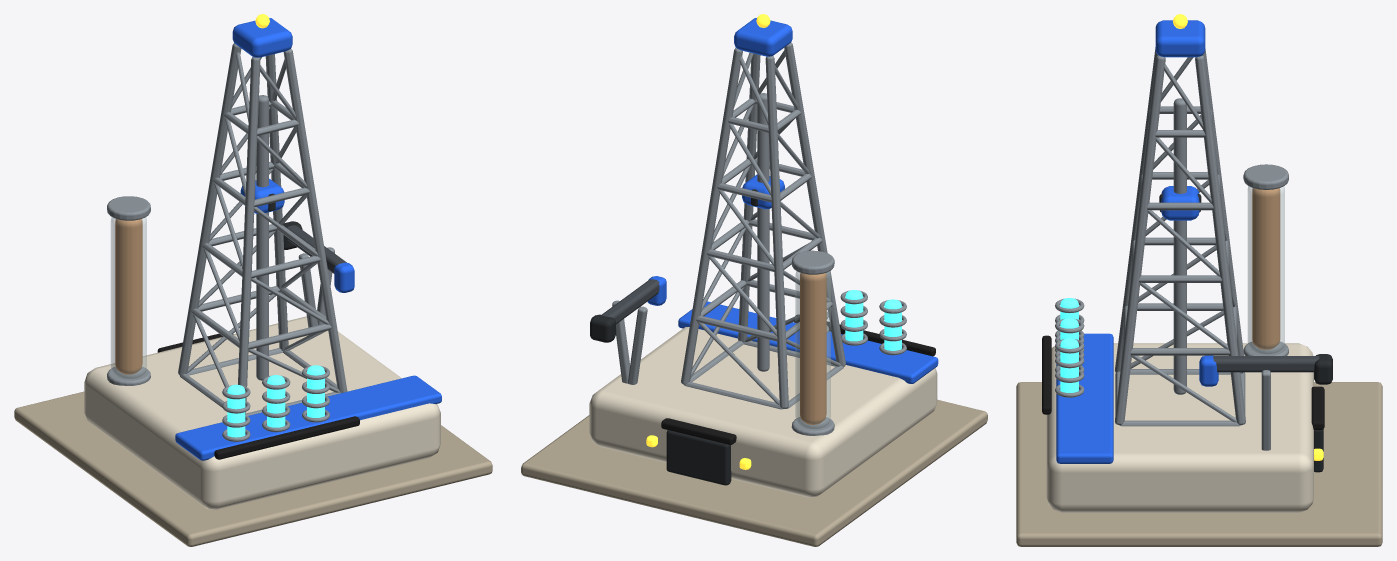
File: deep_mine.glb
The picture shows the model from 3 angles, left to right: view 1: azimuth 30°, elevation 25°; view 2: azimuth 150°, elevation 25°; view 3: azimuth 270°, elevation 25°; orthographic projection. The views are drawn at different scales.
Visible parts, largest first — view 1: stage_1__M_CreamPlastic, stage_2__M_SpringSteel, stage_0__M_SugarPad, stage_1__M_SpringSteel, stage_1__M_Team, stage_2__M_FrostGlass, ore_tube__M_OreTint, stage_3__M_SpringSteel, spinner__M_SpringSteel, stage_1__M_E_Cyan, stage_1__M_Licorice, stage_3__M_Team (+2 smaller); view 2: stage_1__M_CreamPlastic, stage_0__M_SugarPad, stage_2__M_SpringSteel, stage_1__M_SpringSteel, stage_2__M_FrostGlass, ore_tube__M_OreTint, stage_1__M_Team, stage_3__M_SpringSteel, stage_1__M_Dark, spinner__M_SpringSteel, stage_3__M_Team, stage_1__M_Licorice (+3 smaller); view 3: stage_1__M_CreamPlastic, stage_0__M_SugarPad, stage_2__M_SpringSteel, stage_2__M_FrostGlass, stage_1__M_Team, stage_1__M_SpringSteel, ore_tube__M_OreTint, spinner__M_SpringSteel, stage_3__M_SpringSteel, stage_3__M_Team, beam__M_SmokePlastic, stage_1__M_E_Cyan (+4 smaller).
Part boxes in pixels (x1,y1,x2,y2): stage_1__M_CreamPlastic: (84, 316, 440, 509); stage_2__M_SpringSteel: (107, 43, 347, 414); stage_0__M_SugarPad: (14, 391, 492, 546); stage_1__M_SpringSteel: (107, 247, 340, 441); stage_1__M_Team: (175, 375, 441, 460); stage_2__M_FrostGlass: (111, 217, 146, 378); ore_tube__M_OreTint: (115, 219, 142, 374); stage_3__M_SpringSteel: (220, 52, 307, 196); spinner__M_SpringSteel: (256, 95, 268, 380); stage_1__M_E_Cyan: (227, 365, 324, 437); stage_1__M_Licorice: (157, 333, 359, 459); stage_3__M_Team: (232, 18, 292, 57); stage_1__M_CreamPlastic: (589, 327, 937, 497); stage_0__M_SugarPad: (521, 399, 987, 546); stage_2__M_SpringSteel: (681, 42, 845, 408); stage_1__M_SpringSteel: (612, 286, 906, 435); stage_2__M_FrostGlass: (795, 271, 830, 428); ore_tube__M_OreTint: (800, 273, 826, 424); stage_1__M_Team: (678, 301, 938, 383); stage_3__M_SpringSteel: (723, 50, 809, 195); stage_1__M_Dark: (666, 430, 731, 485); spinner__M_SpringSteel: (757, 93, 769, 371); stage_3__M_Team: (734, 18, 792, 56); stage_1__M_Licorice: (661, 314, 935, 444); stage_1__M_CreamPlastic: (1046, 343, 1313, 512); stage_0__M_SugarPad: (1016, 382, 1382, 546); stage_2__M_SpringSteel: (1115, 47, 1288, 424); stage_2__M_FrostGlass: (1248, 186, 1284, 353); stage_1__M_Team: (1056, 333, 1113, 463); stage_1__M_SpringSteel: (1055, 298, 1288, 450); ore_tube__M_OreTint: (1252, 188, 1280, 349); spinner__M_SpringSteel: (1173, 98, 1186, 394); stage_3__M_SpringSteel: (1148, 54, 1218, 203); stage_3__M_Team: (1155, 20, 1205, 57); beam__M_SmokePlastic: (1213, 356, 1319, 372); stage_1__M_E_Cyan: (1060, 298, 1078, 392).
Bounding box in the file's own units: 1.92 × 2.64 × 1.92.
